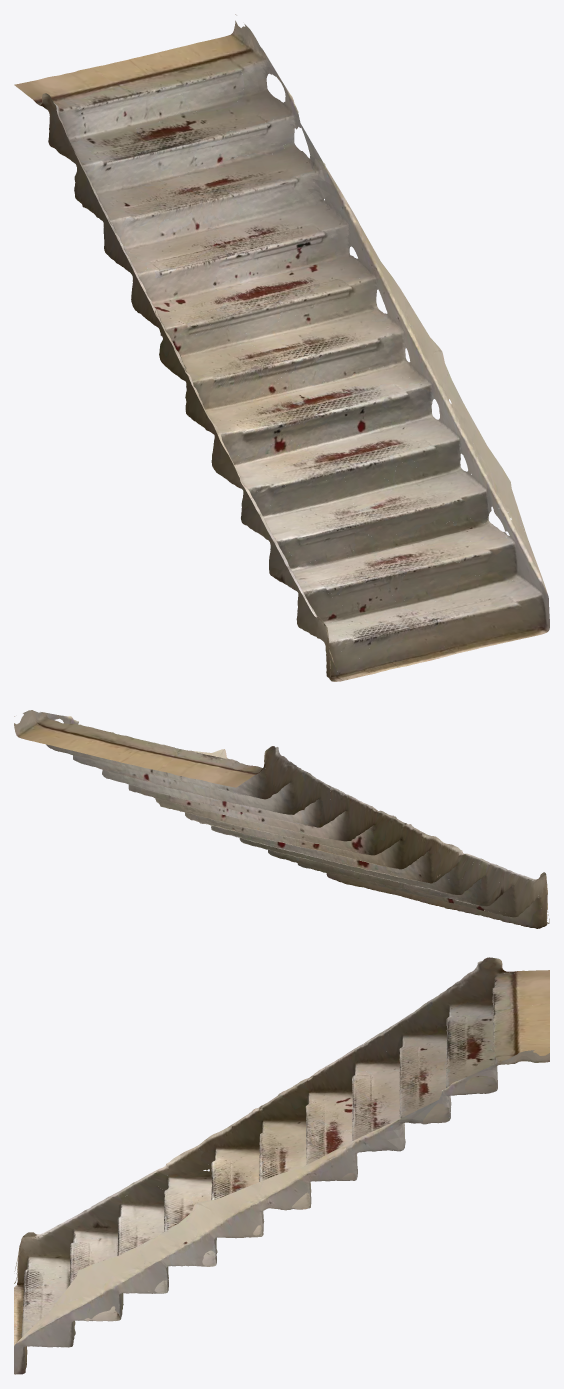
The model's file is env_staircase.glb.
3 views of the same model, one above another, from view 1: azimuth 30°, elevation 25°; view 2: azimuth 150°, elevation 25°; view 3: azimuth 270°, elevation 25° (orthographic). The views are drawn at different scales.
Visible parts, largest first — view 1: Object_2, Object_3, Object_4; view 2: Object_3, Object_2, Object_4; view 3: Object_3, Object_2, Object_4.
Part boxes in pixels (left/top/right/bottom): Object_2: left=36, top=14, right=549, bottom=681; Object_3: left=14, top=67, right=526, bottom=680; Object_4: left=108, top=68, right=526, bottom=604; Object_3: left=73, top=746, right=549, bottom=926; Object_2: left=14, top=710, right=549, bottom=928; Object_4: left=67, top=724, right=504, bottom=900; Object_3: left=14, top=957, right=549, bottom=1336; Object_2: left=14, top=959, right=549, bottom=1374; Object_4: left=52, top=1023, right=497, bottom=1320.
Size of the model in its own units: 1.19 by 1.98 by 2.93.
Materials: 1 (1 with a texture image).
